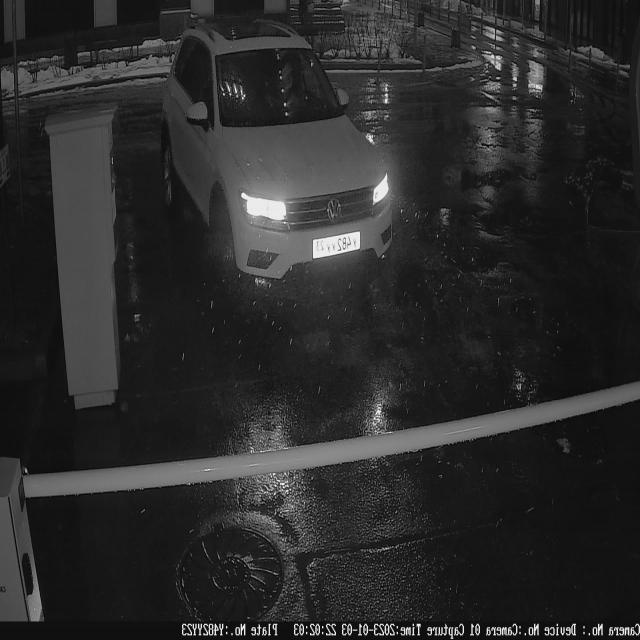car-plate-numbers: (312, 228, 364, 264)
